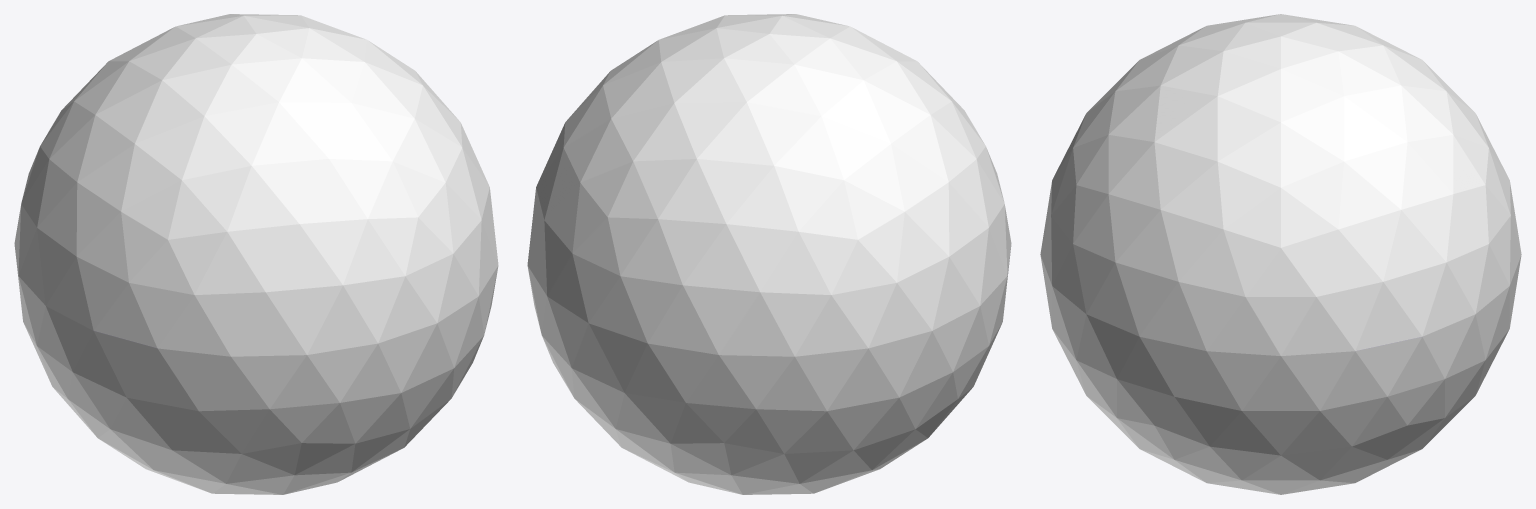
3 views of the same model, side by side, from view 1: azimuth 30°, elevation 25°; view 2: azimuth 150°, elevation 25°; view 3: azimuth 270°, elevation 25° (orthographic).
Visible parts, largest first — view 1: Icosphere.001; view 2: Icosphere.001; view 3: Icosphere.001.
Boxes of the visible parts, left/top/right/bottom form: Icosphere.001: left=14, top=14, right=498, bottom=494; Icosphere.001: left=527, top=14, right=1011, bottom=494; Icosphere.001: left=1040, top=14, right=1521, bottom=494.
Bounding box in the file's own units: 200 × 200 × 200.
Materials: 2 (2 with a texture image).
